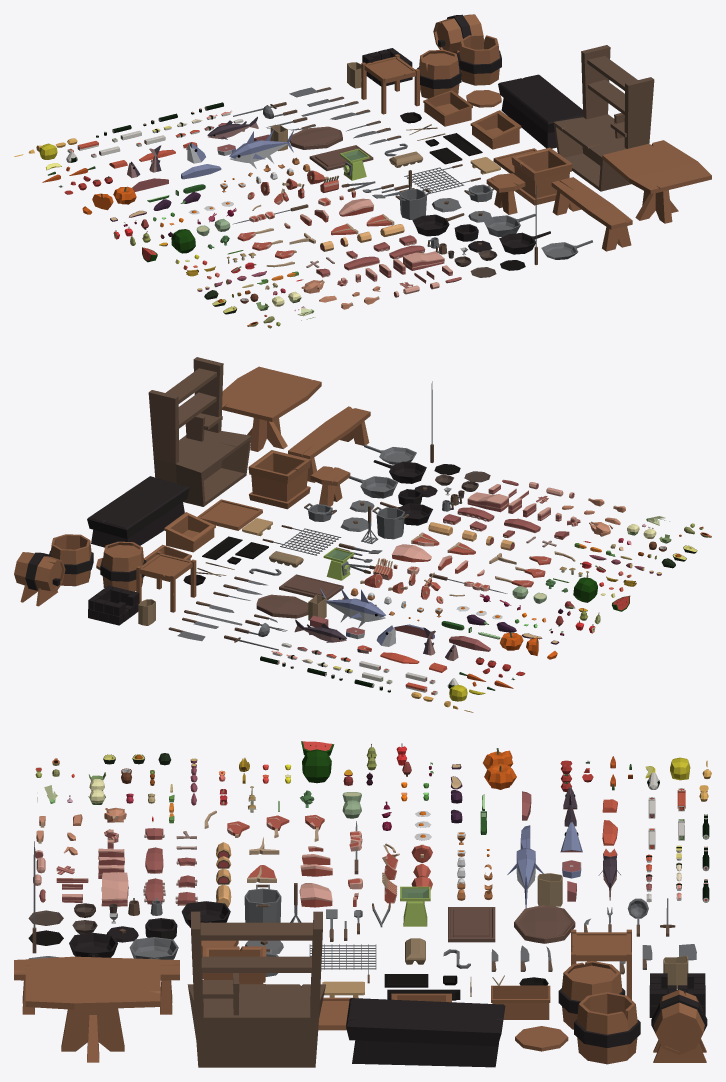
Rendered from AllAssetsMerged.fbx.
The picture shows the model from 3 angles, top to bottom: view 1: azimuth 30°, elevation 25°; view 2: azimuth 150°, elevation 25°; view 3: azimuth 270°, elevation 25°; orthographic projection. The views are drawn at different scales.
Parts seen in each view (by area): view 1: cuttingBoard01; view 2: cuttingBoard01; view 3: cuttingBoard01.
Part boxes in pixels (x1=…): cuttingBoard01: x1=14, y1=14, x2=711, y2=328; cuttingBoard01: x1=14, y1=357, x2=711, y2=712; cuttingBoard01: x1=14, y1=741, x2=711, y2=1067.
Bounding box in the file's own units: 715 × 161 × 664.
Materials: 1 (1 with a texture image).
